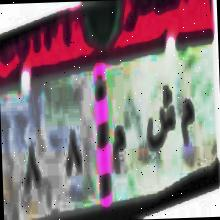8: (63, 128, 84, 180), (21, 150, 42, 196)
meem: (178, 95, 196, 147), (112, 122, 126, 176)
sheen: (145, 84, 177, 158)
